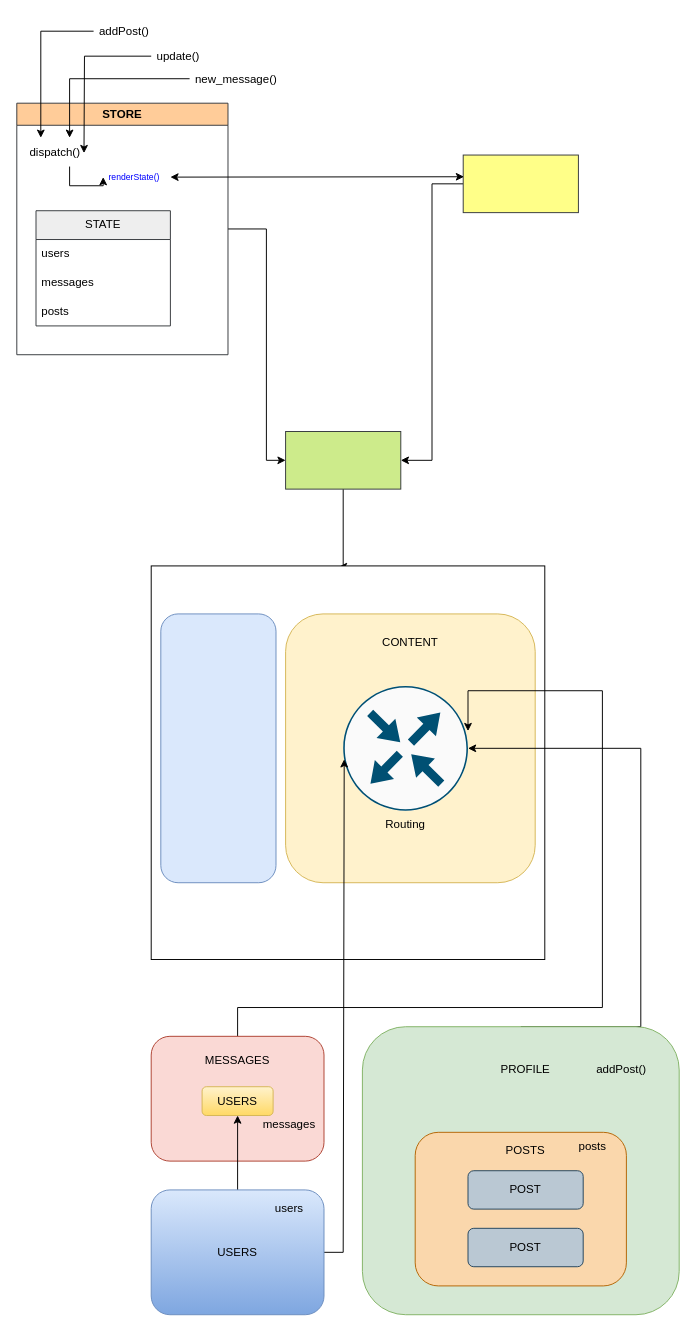
Image size: 696x1332. Some labels were removed from this diagram. Each missing label, with the centre of its shape:
INDEX: point 343,460
MENU: point 218,748
RENDER: point 520,183
